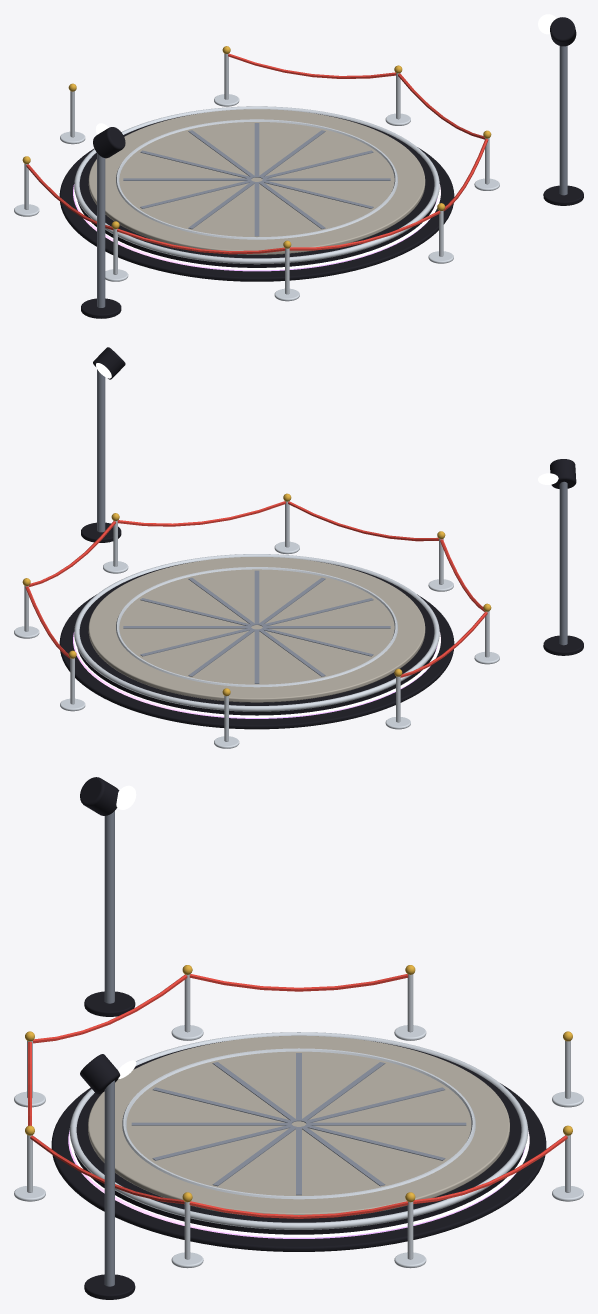
File: show_turntable.glb
3 views of the same model, one above another, from view 1: azimuth 30°, elevation 25°; view 2: azimuth 150°, elevation 25°; view 3: azimuth 270°, elevation 25° (orthographic). The views are drawn at different scales.
Parts seen in each view (by area): view 1: turntable_top, show_turntable; view 2: turntable_top, show_turntable; view 3: turntable_top, show_turntable.
Part boxes in pixels (x1,y1,x2,y2): turntable_top: (88,109,425,254); show_turntable: (14,14,583,318); turntable_top: (88,557,425,702); show_turntable: (14,347,583,748); turntable_top: (88,1035,509,1216); show_turntable: (14,777,583,1299).
Size of the model in its own units: 9.89 by 3.51 by 7.83.
1 material, 1 textured.
